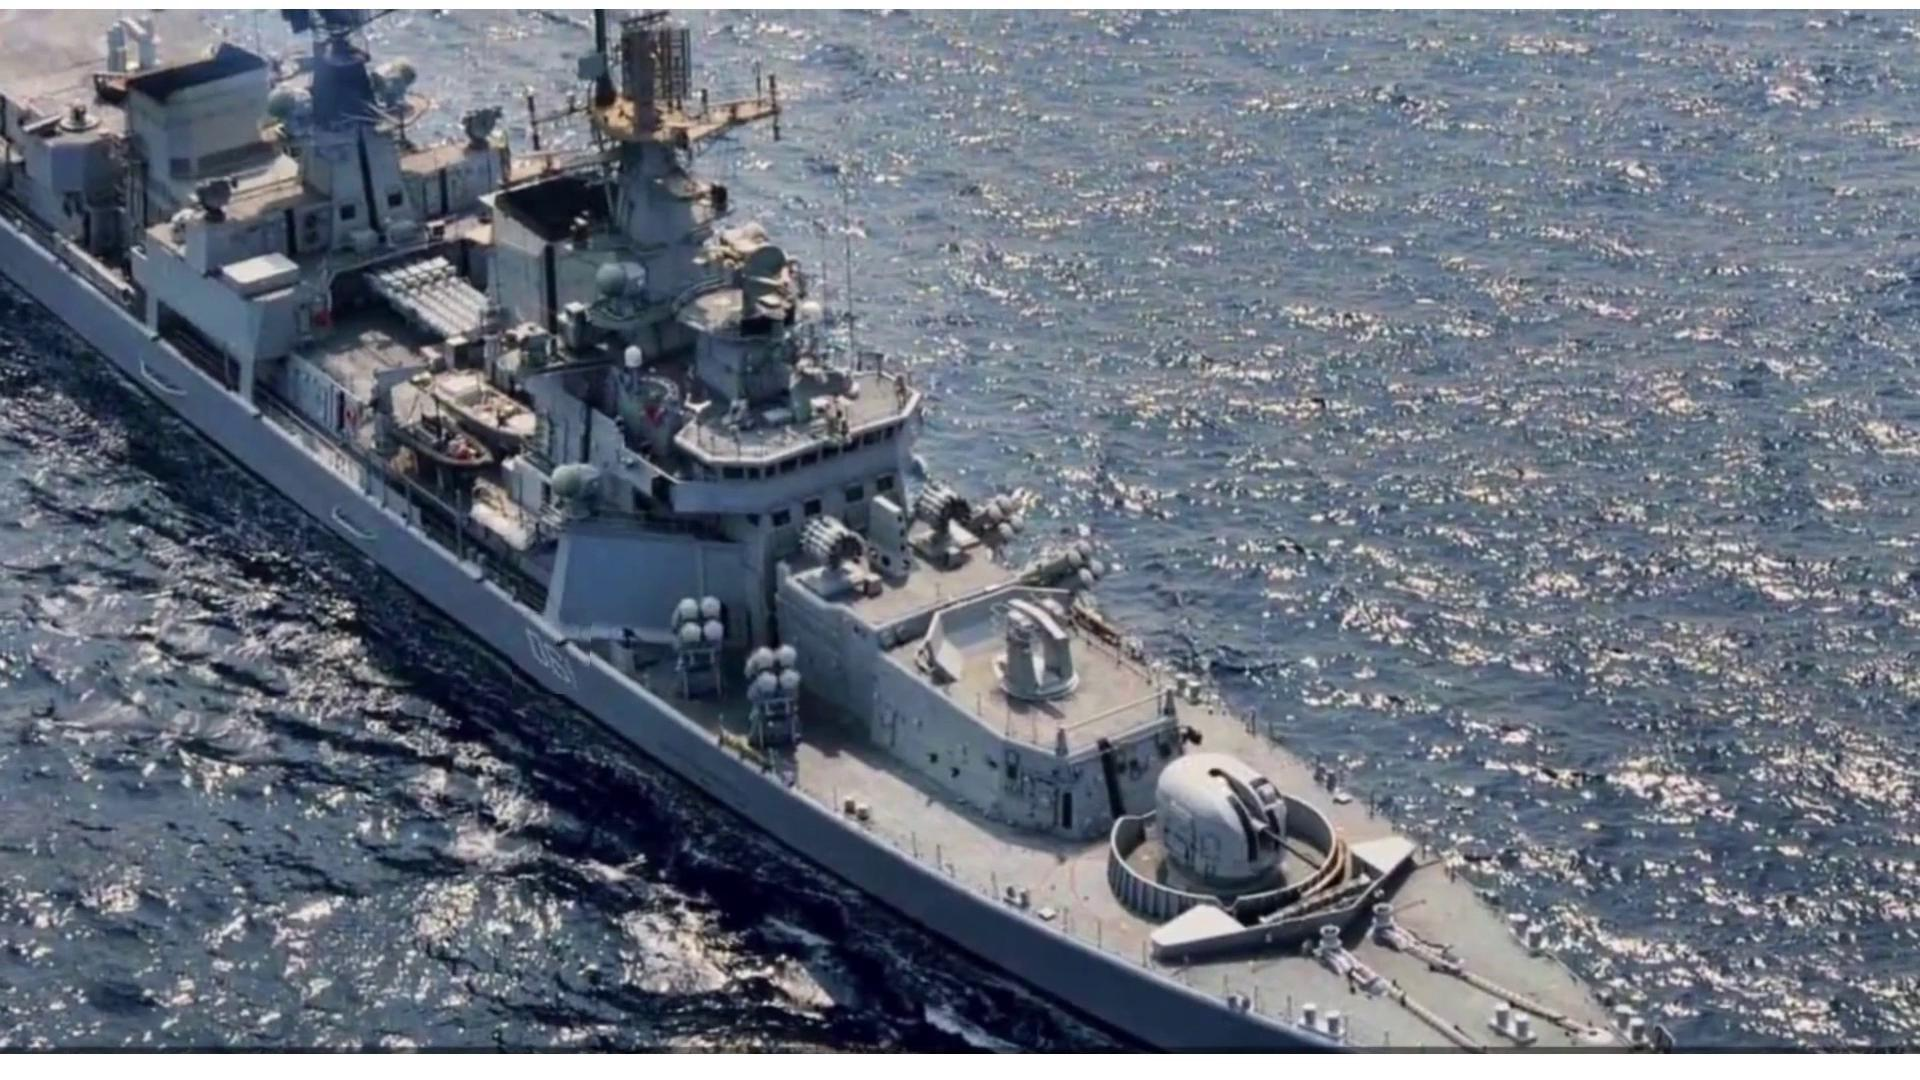OCR: (512, 612, 592, 694)
